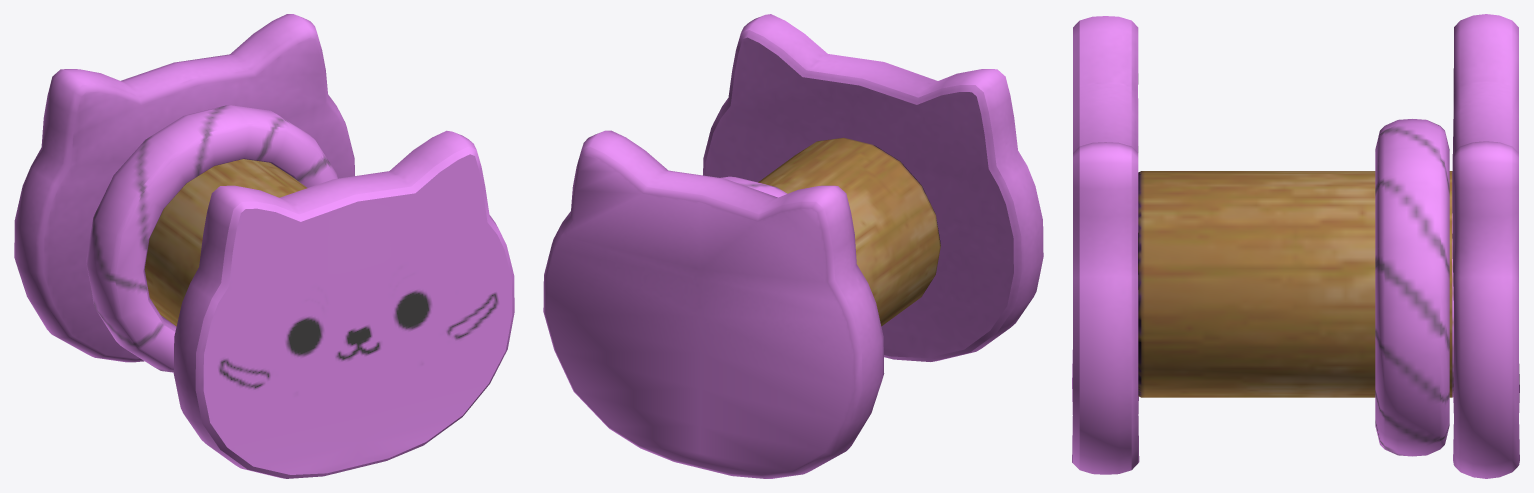
The model's file is Cat_Cylinder_2.fbx.
3 renders of one model, left to right at view 1: azimuth 30°, elevation 25°; view 2: azimuth 150°, elevation 25°; view 3: azimuth 270°, elevation 25°, orthographic. The views are drawn at different scales.
Visible parts, largest first — view 1: body02_low, circle02_low, tail02_low; view 2: body02_low, tail02_low; view 3: body02_low, tail02_low, circle02_low.
Boxes of the visible parts, <box> form: body02_low: <box>14,14,514,478</box>; circle02_low: <box>86,105,337,372</box>; tail02_low: <box>144,159,307,326</box>; body02_low: <box>543,14,1043,478</box>; tail02_low: <box>758,137,940,326</box>; body02_low: <box>1072,14,1519,478</box>; tail02_low: <box>1138,171,1453,397</box>; circle02_low: <box>1375,119,1449,456</box>.
Size of the model in its own units: 27.87 by 24.66 by 27.55.
1 material, 1 textured.
